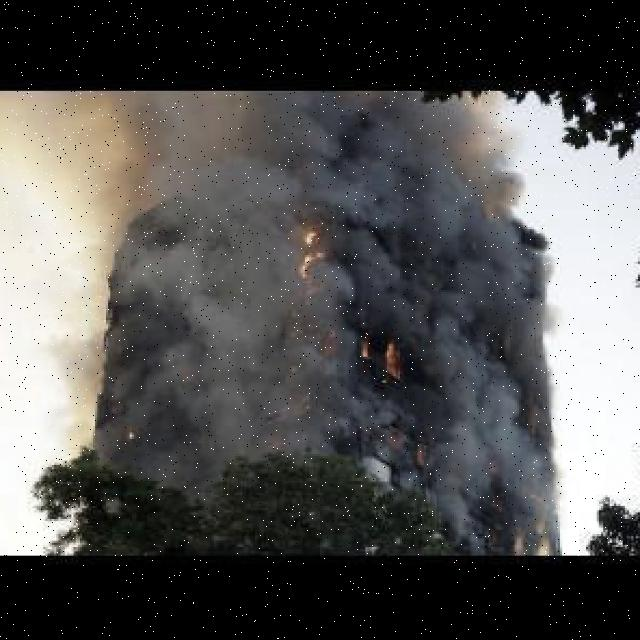fire: (292, 214, 335, 296), (359, 339, 417, 385)
smoke: (43, 93, 294, 471), (417, 117, 584, 551)
